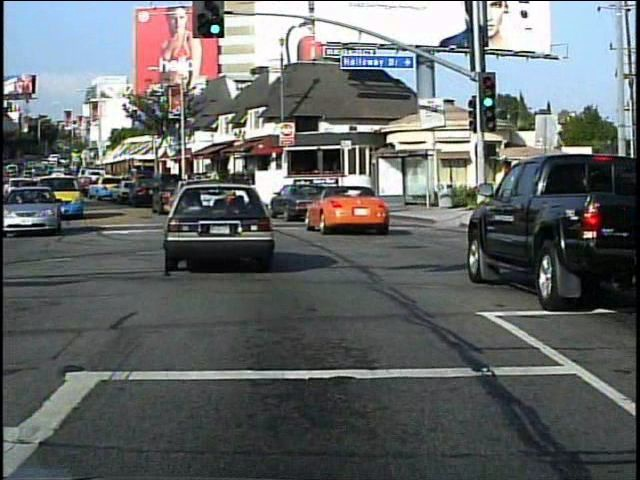person: (575, 187, 598, 249)
